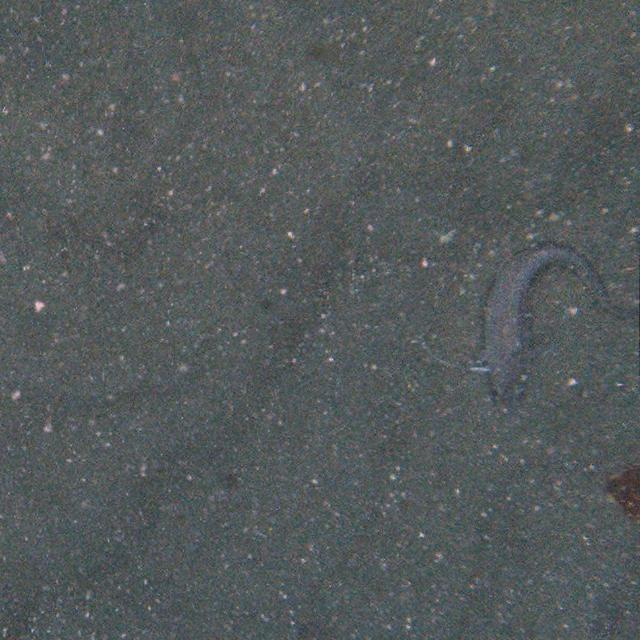roundfish: (438, 238, 638, 412)
